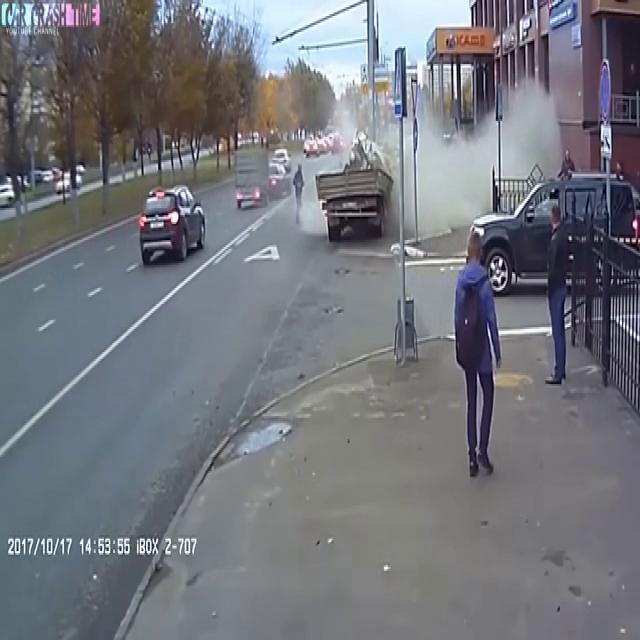normal: (457, 147, 640, 300), (102, 167, 233, 275)
single accident: (303, 68, 422, 260)
